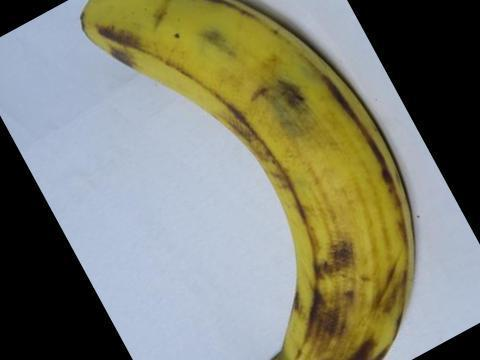overripe: (69, 0, 432, 359)
